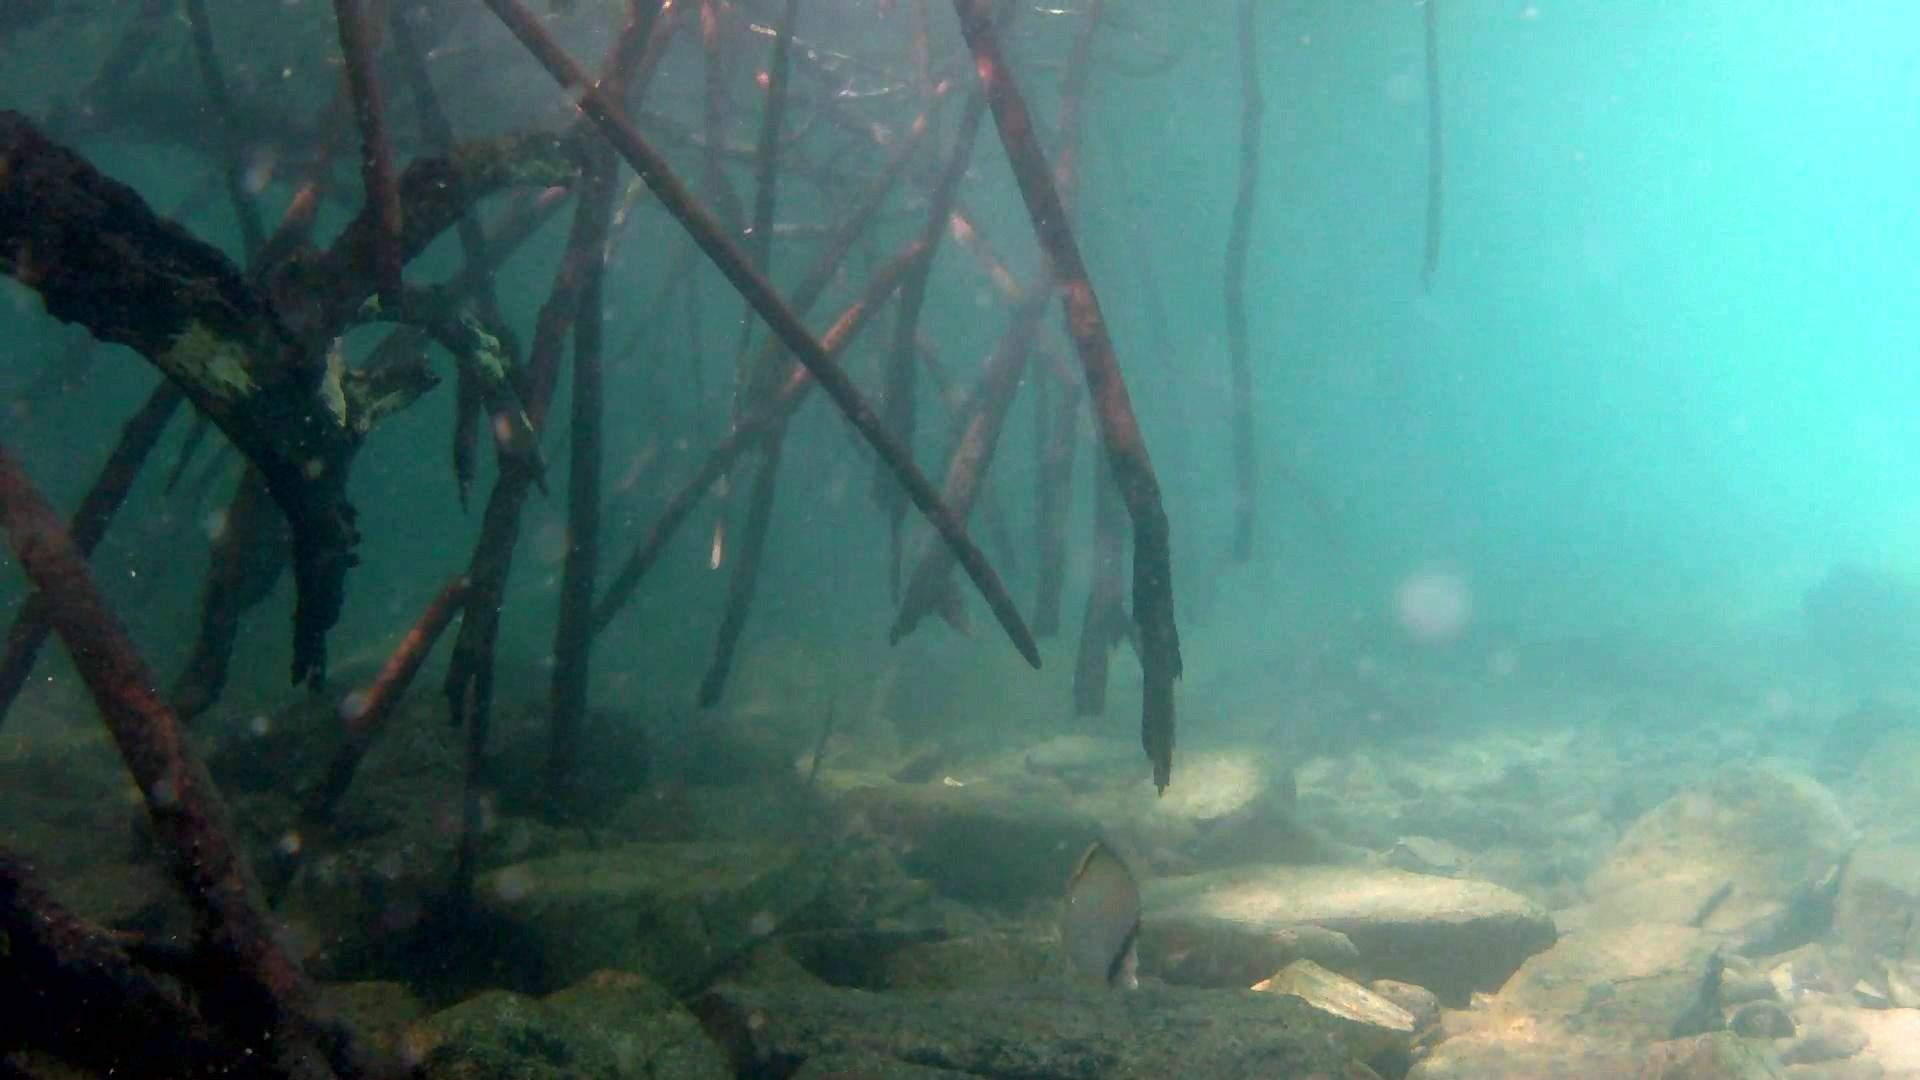chaetodon vagabundus: (1055, 833, 1145, 997)
